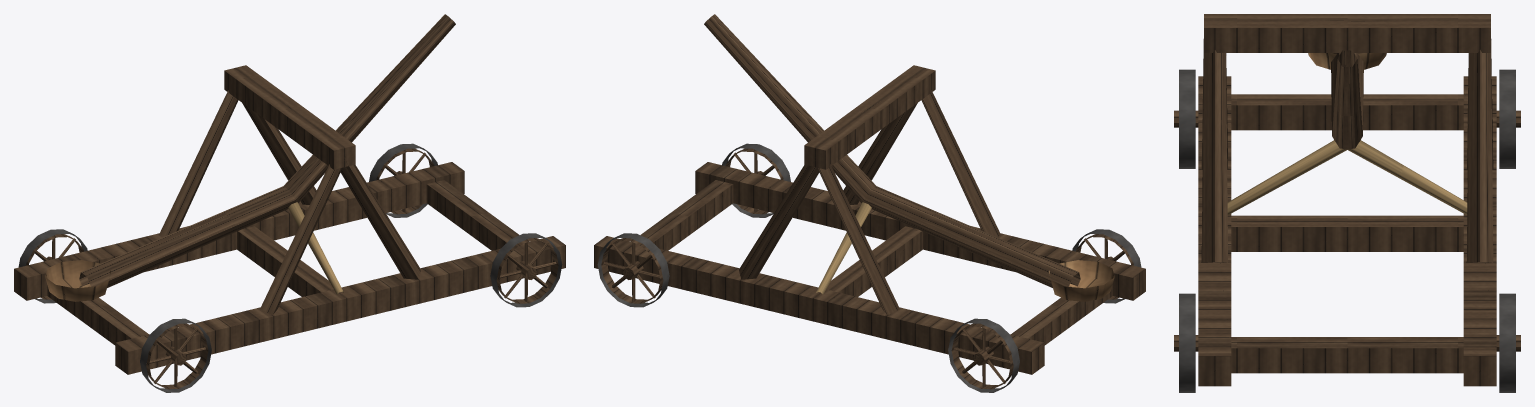
File: Catapult_1.gltf
The picture shows the model from 3 angles, left to right: view 1: azimuth 30°, elevation 25°; view 2: azimuth 150°, elevation 25°; view 3: azimuth 270°, elevation 25°; orthographic projection. The views are drawn at different scales.
Parts seen in each view (by area): view 1: Catapult_1; view 2: Catapult_1; view 3: Catapult_1.
Boxes of the visible parts, bbox=[...] form: Catapult_1: bbox=[14, 14, 565, 392]; Catapult_1: bbox=[594, 14, 1145, 392]; Catapult_1: bbox=[1174, 14, 1520, 392].
Size of the model in its own units: 6.28 by 3.26 by 3.14.
Materials: 4 (4 with a texture image).
